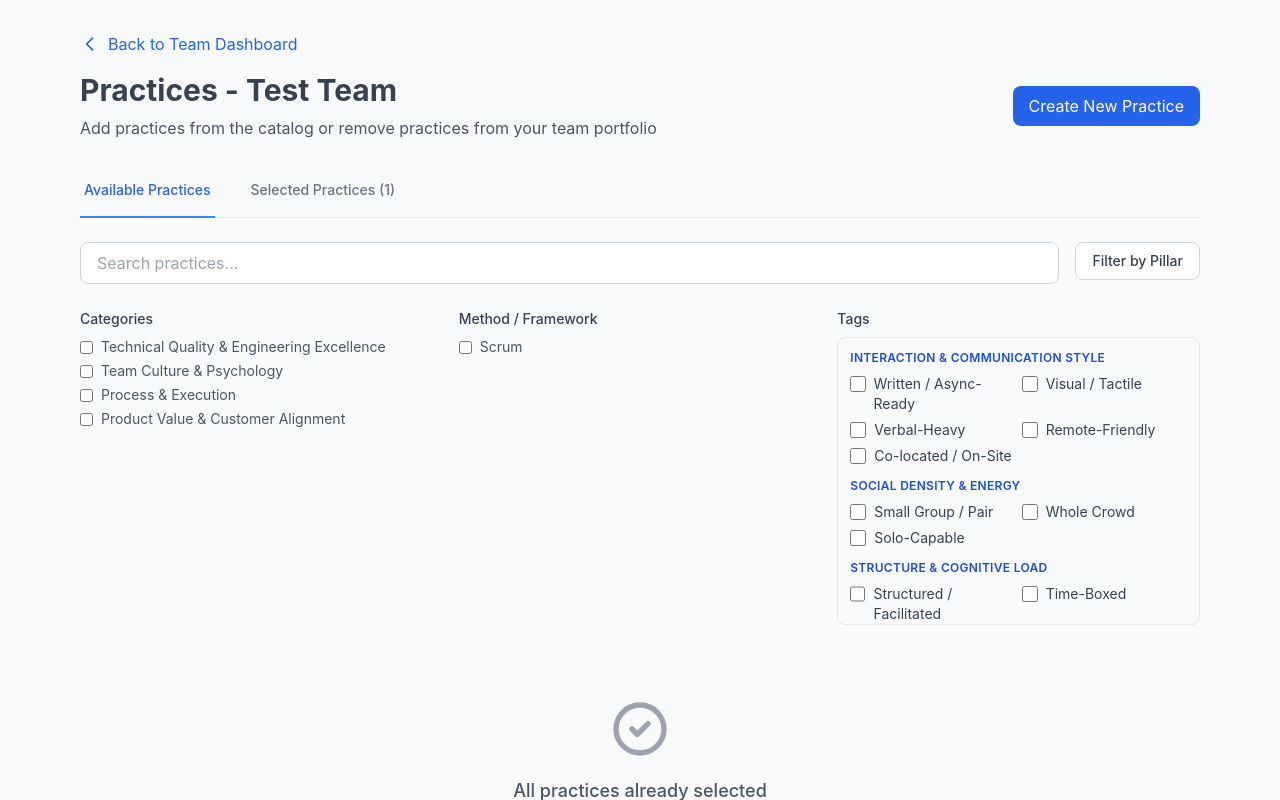
Test: ManagePracticesView › opens removal modal and shows impact preview
Click the button "Selected Practices (1)".
click(323, 191)  # box [246,164,399,218]
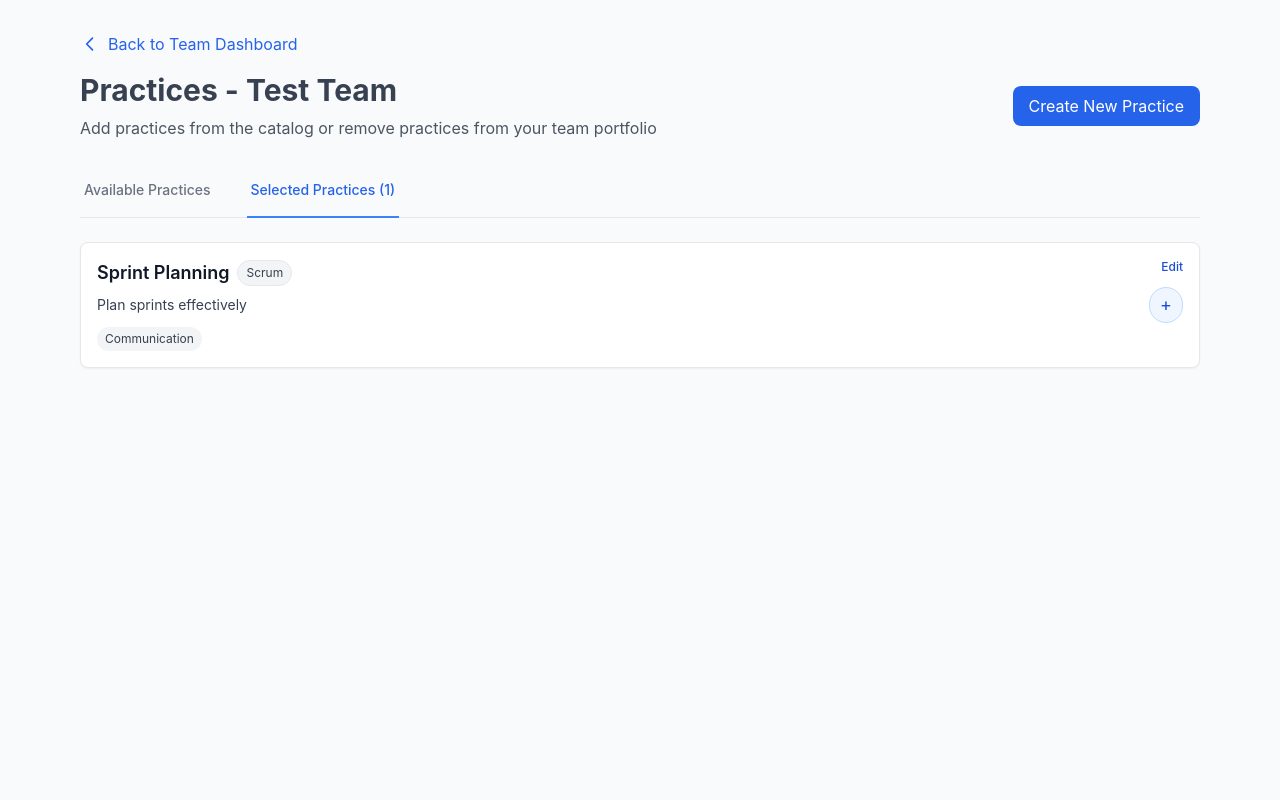
Click the button named "remove from team".
click(1166, 305)  # box [1149,287,1183,323]
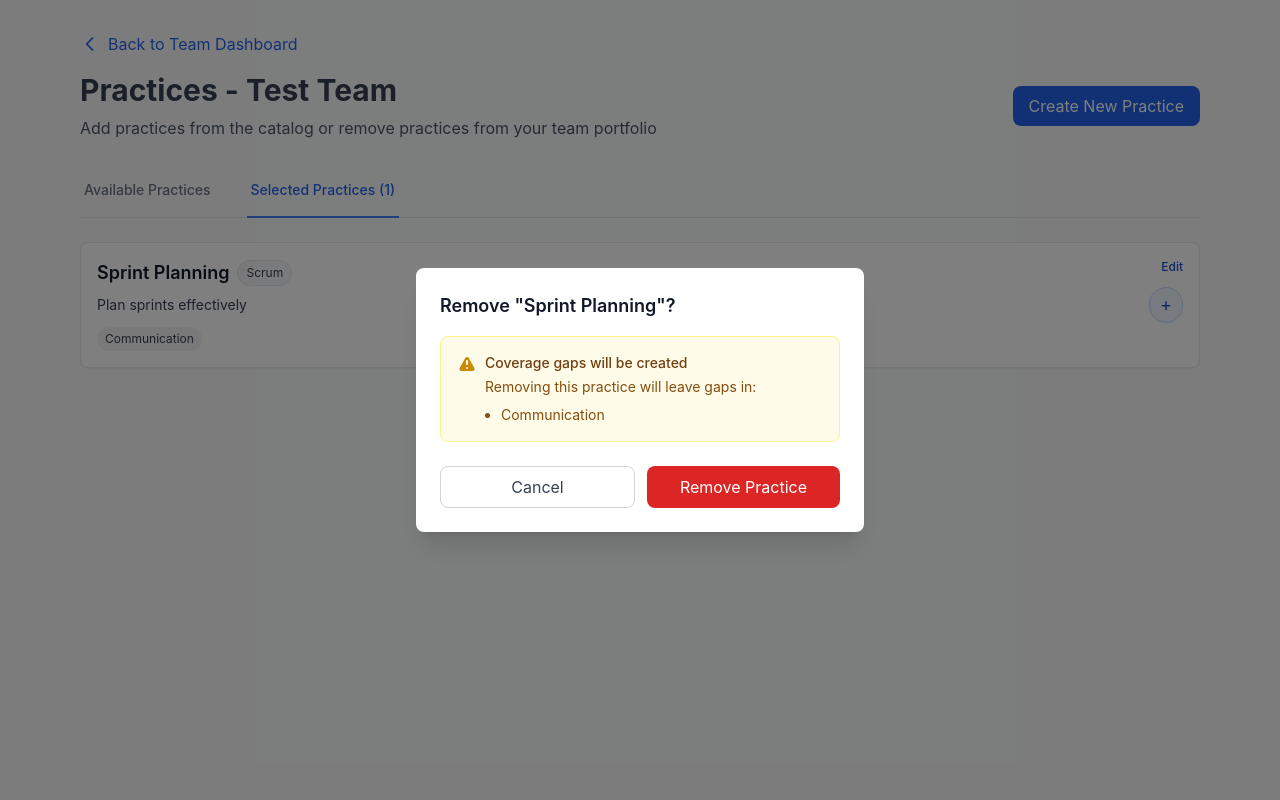
Expected: the text "Coverage gaps will be created" is shown, [485,354,688,371]
Expected: the list reads "Communication", [501,406,605,423]
